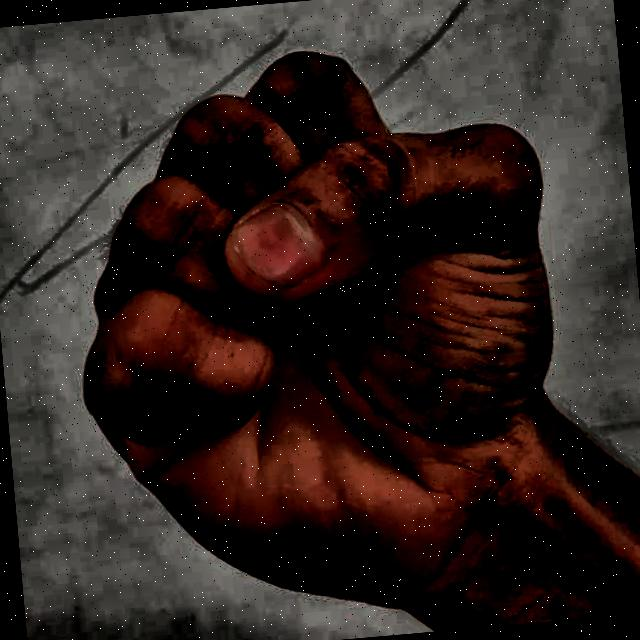Sha: (26, 4, 607, 640)
